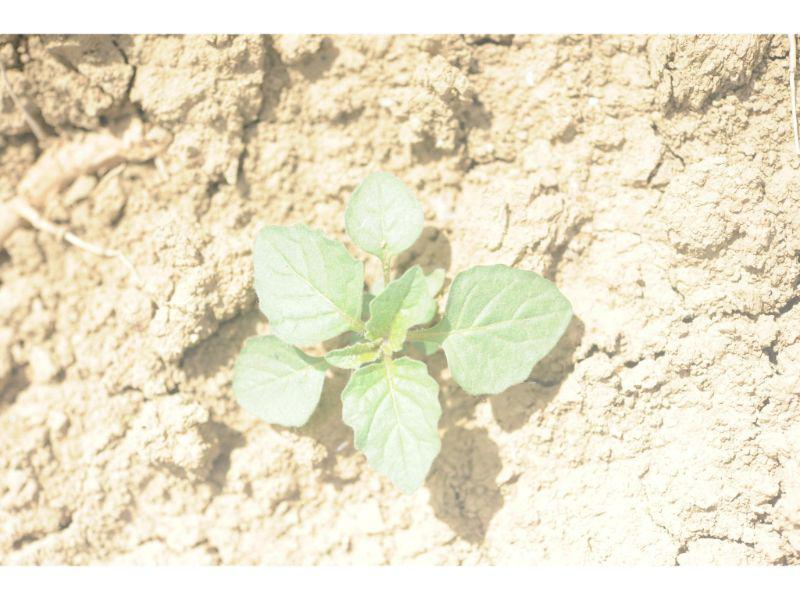nightshade: (235, 168, 573, 494)
